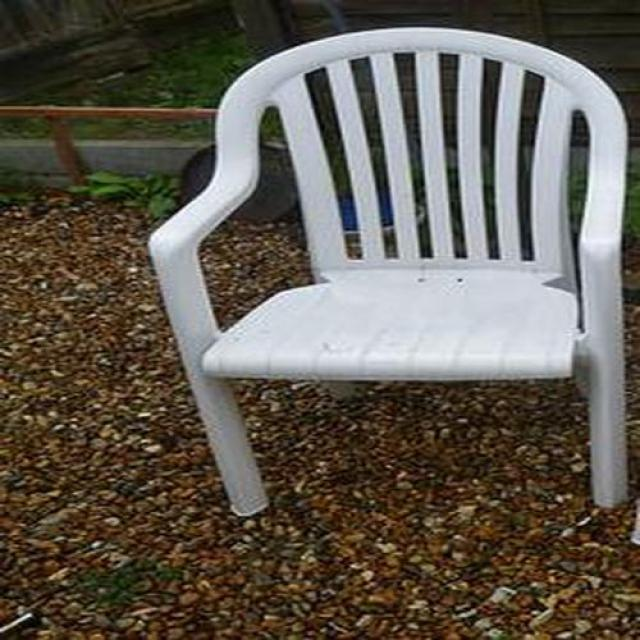chair: (147, 28, 630, 521)
